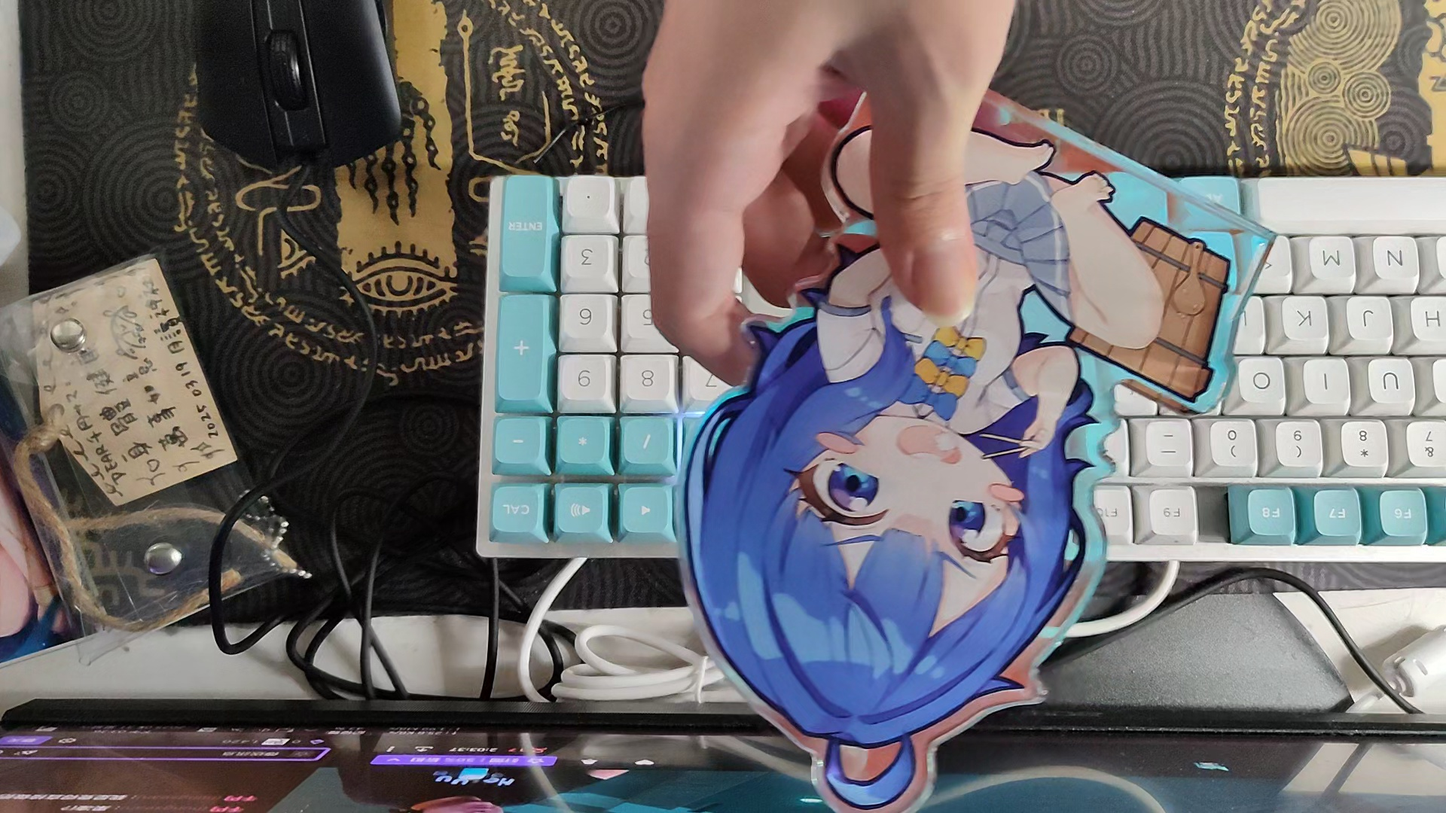Yanami-anna: (670, 44, 1278, 813)
